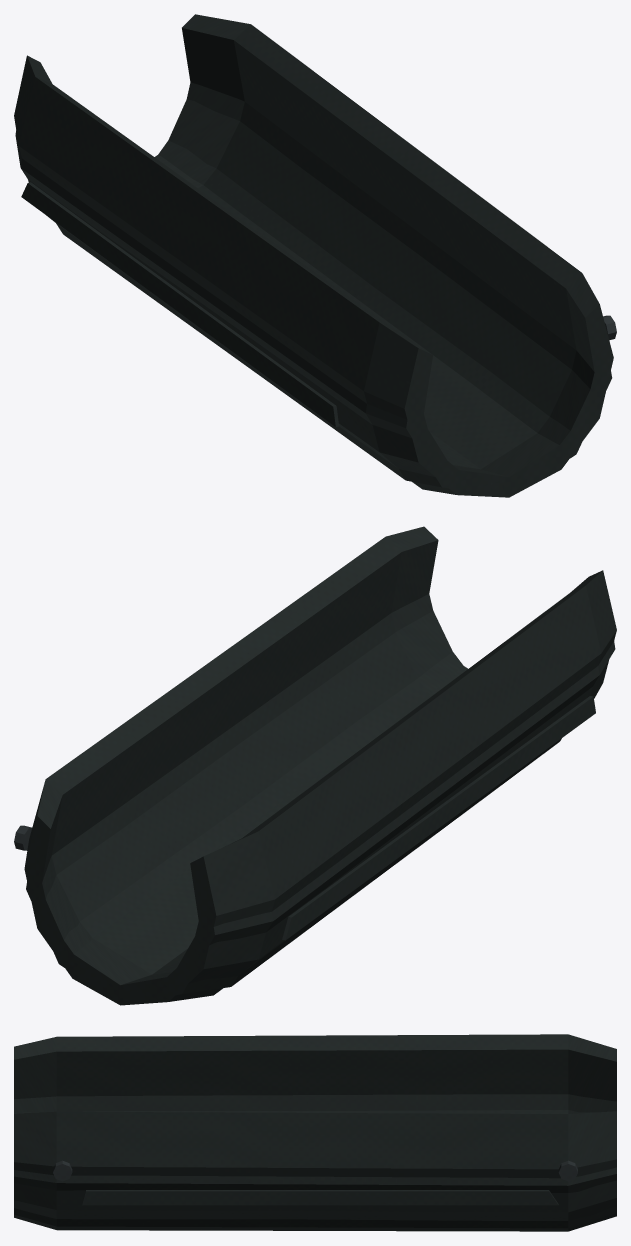
Rendered from mp153_guard.glb.
3 renders of one model, top to bottom at view 1: azimuth 30°, elevation 25°; view 2: azimuth 150°, elevation 25°; view 3: azimuth 270°, elevation 25°, orthographic. The views are drawn at different scales.
Parts seen in each view (by area): view 1: handguard__mp153_guard_LOD0_RAID_Secondary_Original_polymer, handguard__mp153_guard_LOD1_RAID_Secondary_Original_polymer; view 2: handguard__mp153_guard_LOD0_RAID_Secondary_Original_polymer, handguard__mp153_guard_LOD1_RAID_Secondary_Original_polymer; view 3: handguard__mp153_guard_LOD0_RAID_Secondary_Original_polymer, handguard__mp153_guard_LOD1_RAID_Secondary_Original_polymer, handguard__mp153_guard_LOD0_RAID_Secondary_Original_steel.
Part boxes in pixels (box(x1,y1,x2,y2)): handguard__mp153_guard_LOD0_RAID_Secondary_Original_polymer: box(14, 14, 613, 497); handguard__mp153_guard_LOD1_RAID_Secondary_Original_polymer: box(15, 28, 612, 497); handguard__mp153_guard_LOD0_RAID_Secondary_Original_polymer: box(24, 526, 616, 1005); handguard__mp153_guard_LOD1_RAID_Secondary_Original_polymer: box(26, 540, 615, 1005); handguard__mp153_guard_LOD0_RAID_Secondary_Original_polymer: box(14, 1034, 616, 1231); handguard__mp153_guard_LOD1_RAID_Secondary_Original_polymer: box(14, 1049, 616, 1228); handguard__mp153_guard_LOD0_RAID_Secondary_Original_steel: box(53, 1160, 577, 1181).
Size of the model in its own units: 0.1178 by 0.0837 by 0.31.
2 materials, 2 textured.
